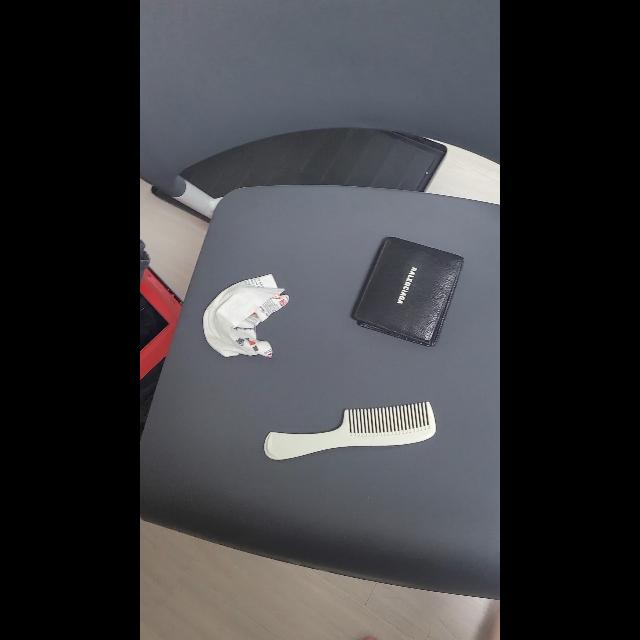COMB: (264, 402, 436, 461)
Glasses cleaning cloth: (202, 274, 290, 358)
WALLET: (352, 236, 464, 348)
